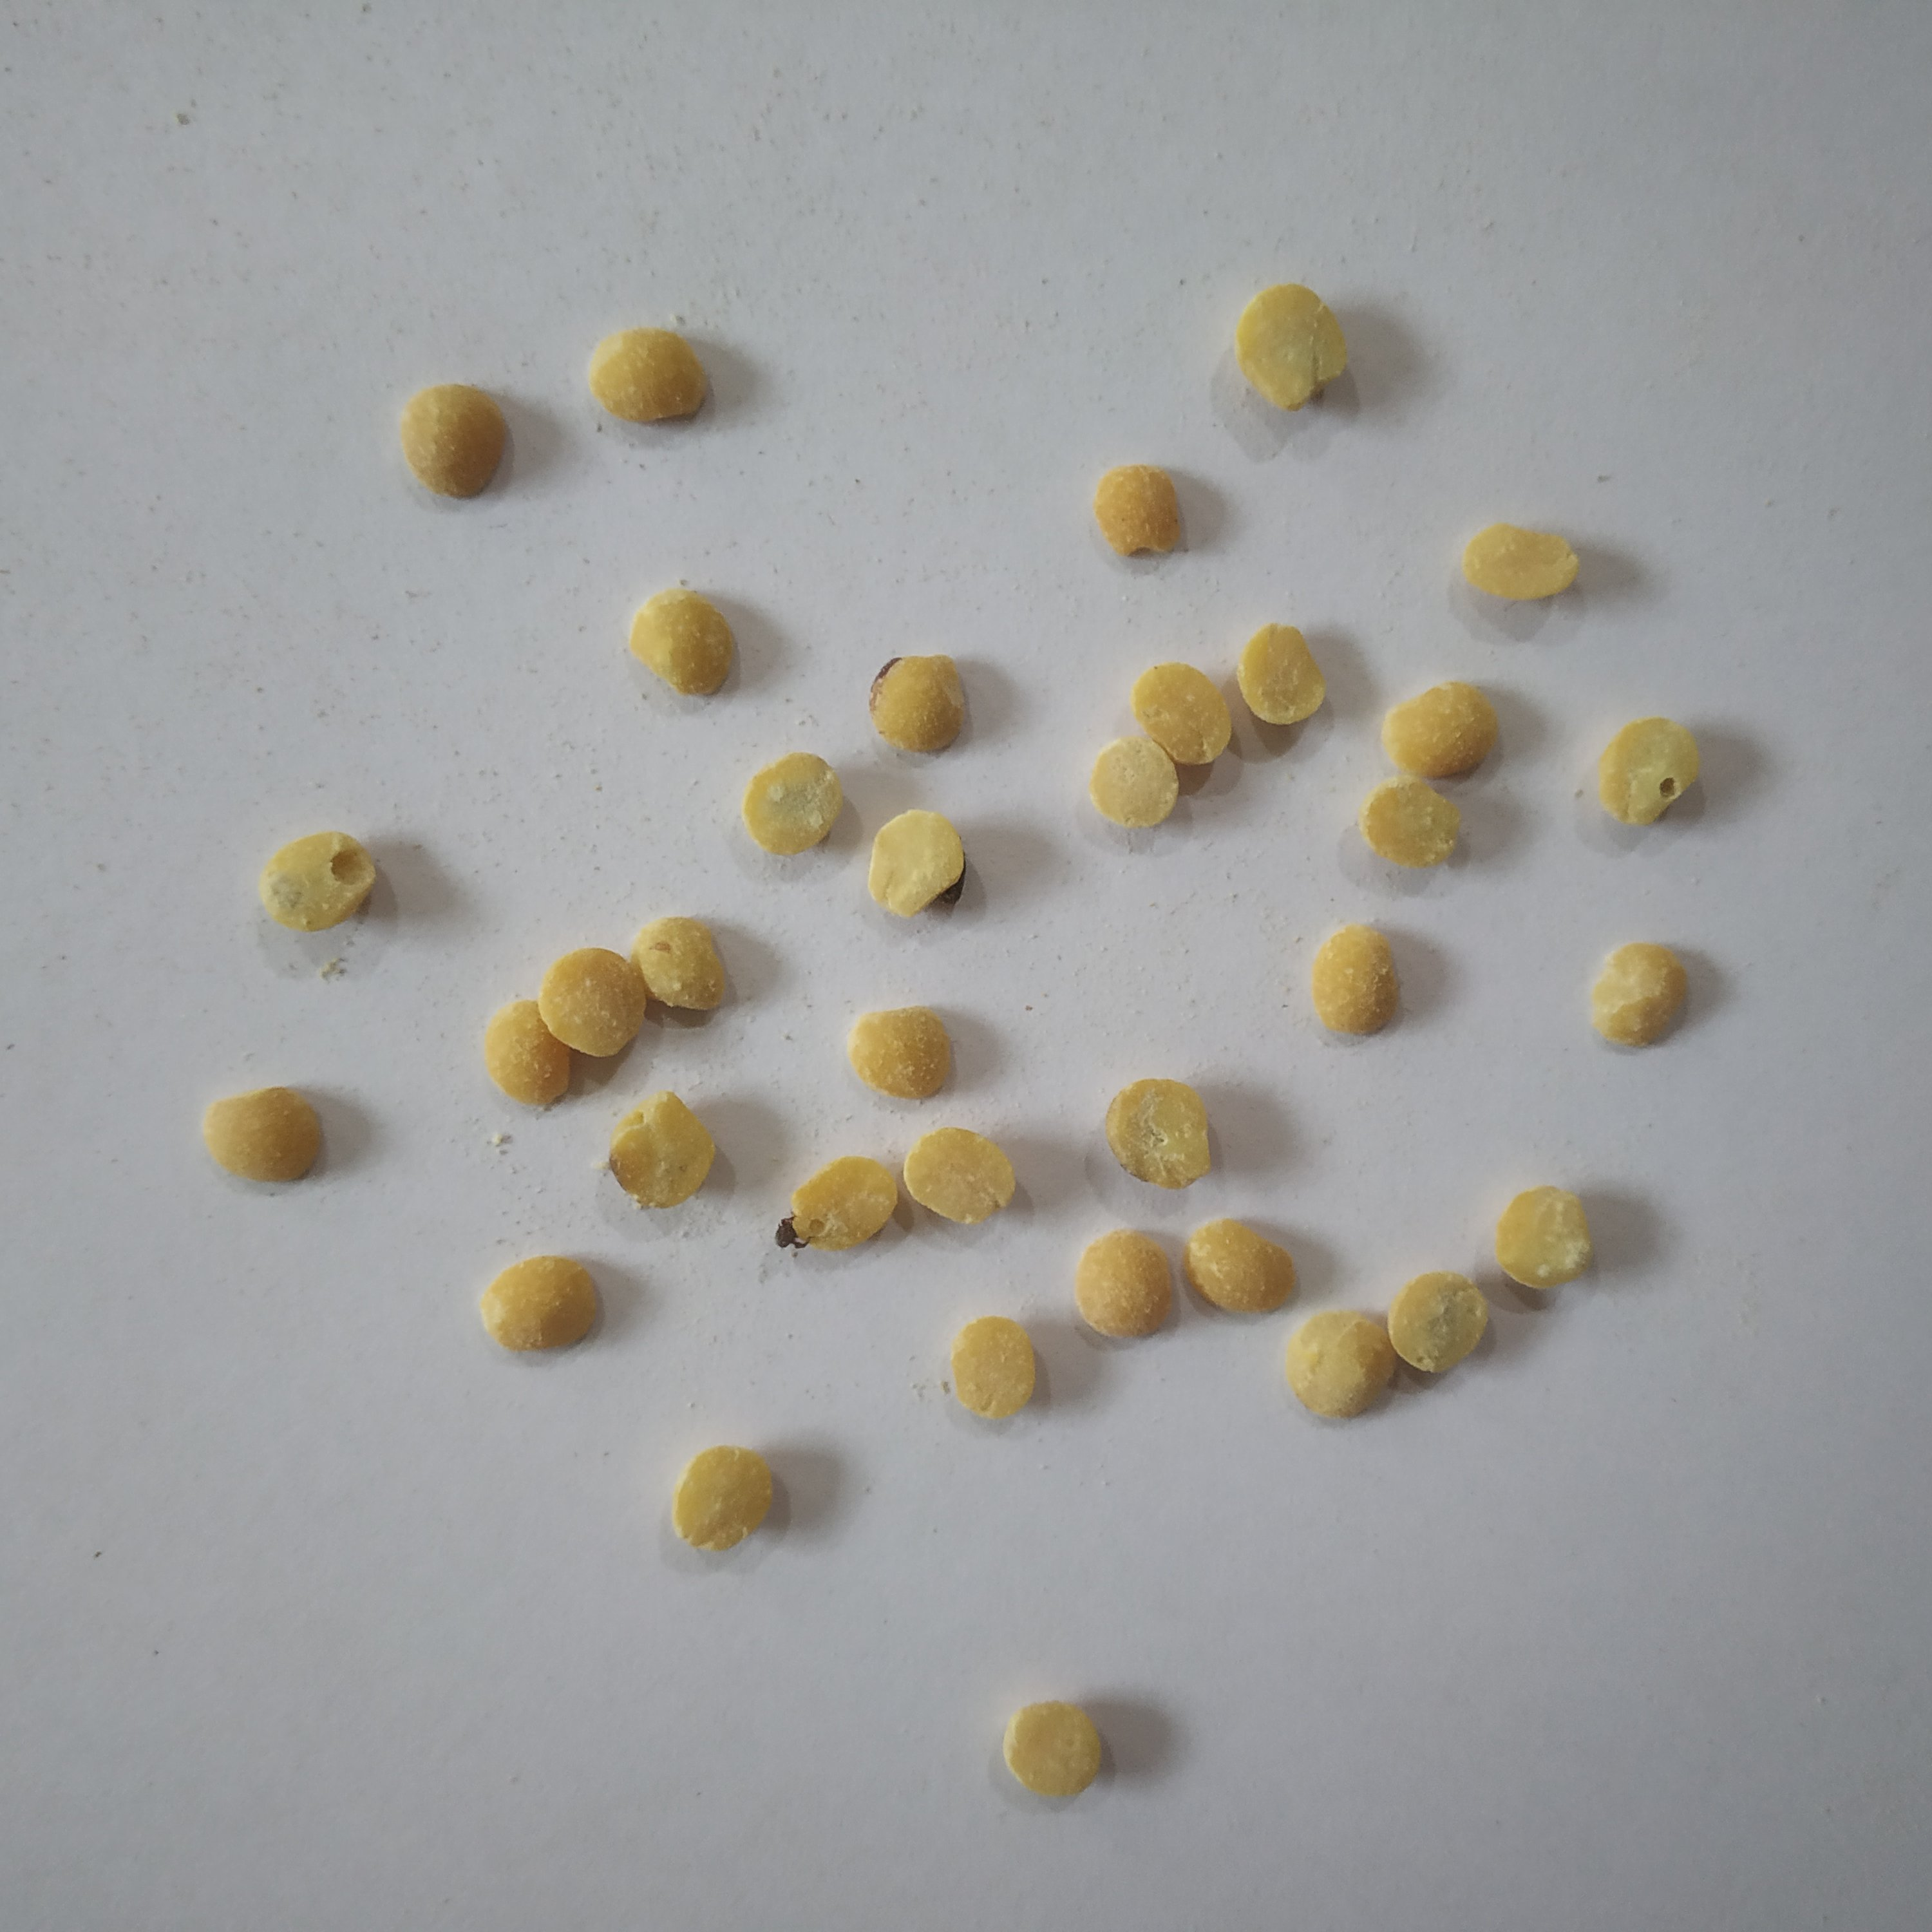Broken Toor Dal: (1088, 460, 1184, 561)
Fungal Infected Toor Dal: (1102, 1070, 1223, 1189)
Good Toor Dal: (1230, 278, 1350, 412), (395, 379, 513, 502), (474, 1247, 607, 1355), (628, 582, 741, 708), (534, 939, 649, 1062), (1281, 1307, 1401, 1422), (198, 1079, 326, 1187), (1069, 1224, 1178, 1346), (901, 1120, 1024, 1226), (586, 324, 711, 428), (1373, 678, 1500, 778), (1488, 1182, 1599, 1297), (667, 1440, 777, 1557), (740, 747, 847, 862), (840, 1000, 957, 1106), (1182, 1217, 1302, 1318), (1585, 936, 1690, 1051), (863, 810, 971, 918), (1127, 662, 1235, 768), (867, 646, 968, 757), (1000, 1697, 1106, 1801), (1385, 1269, 1491, 1373), (1355, 775, 1467, 874), (481, 998, 579, 1111), (1458, 520, 1583, 607), (1231, 619, 1330, 729), (945, 1313, 1040, 1424), (626, 913, 727, 1016), (1309, 924, 1399, 1037), (1085, 732, 1184, 832)
Infested Toor Dal: (603, 1085, 720, 1215), (1591, 708, 1706, 830), (257, 826, 382, 938), (787, 1152, 902, 1253)
